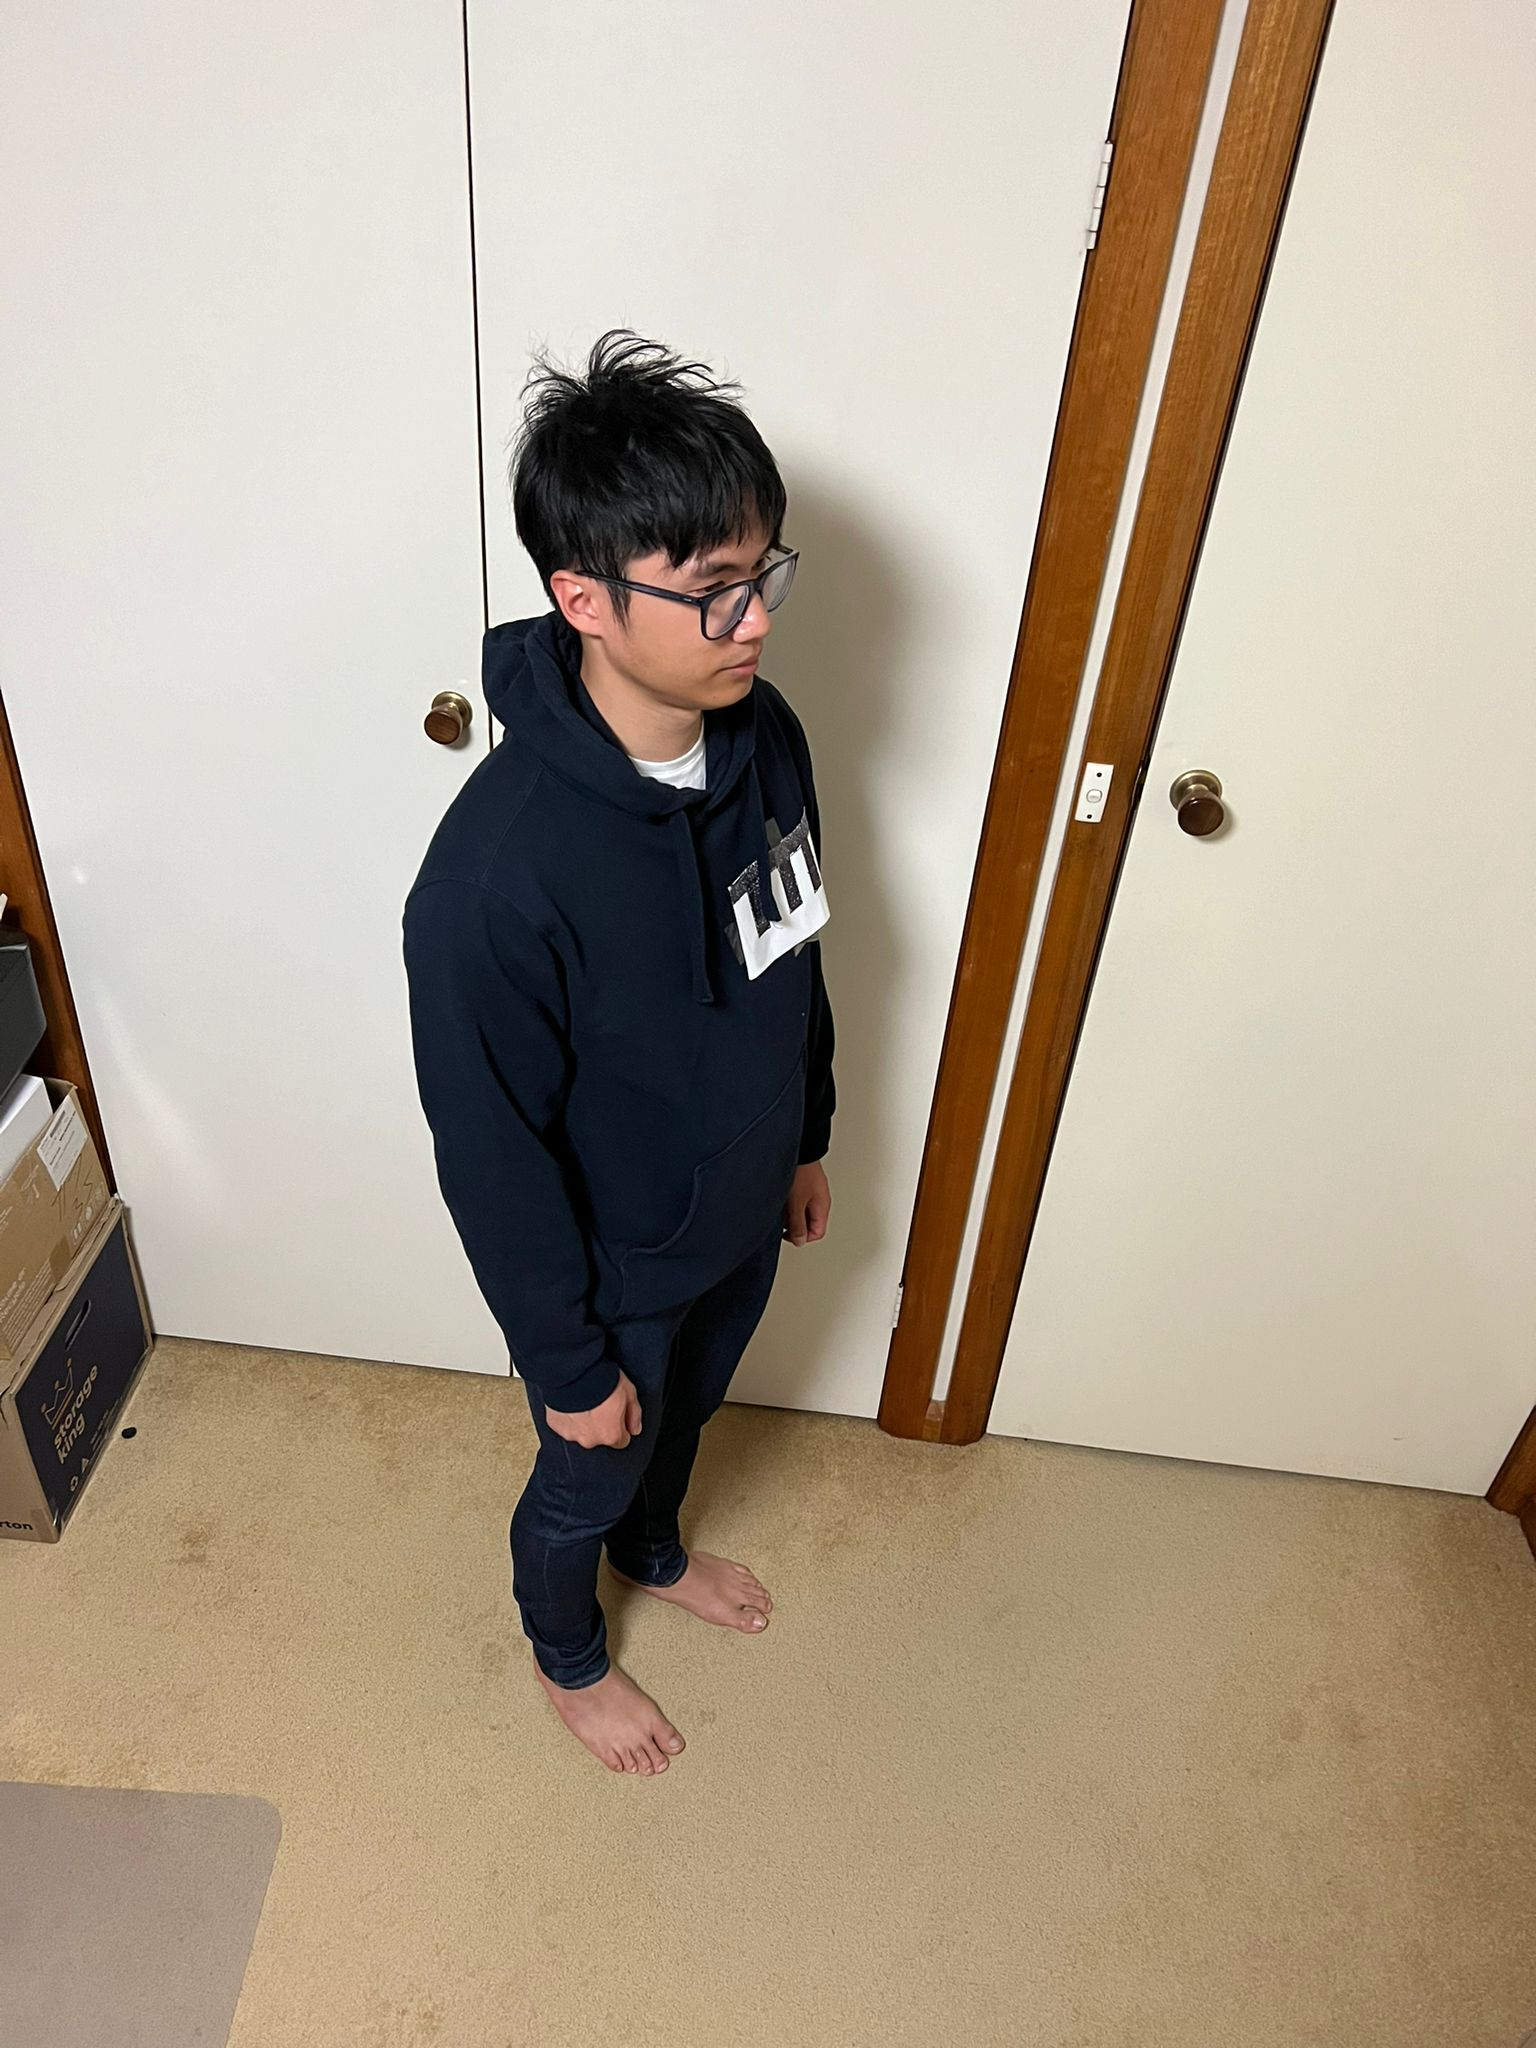Staff: (687, 784, 892, 1011)
